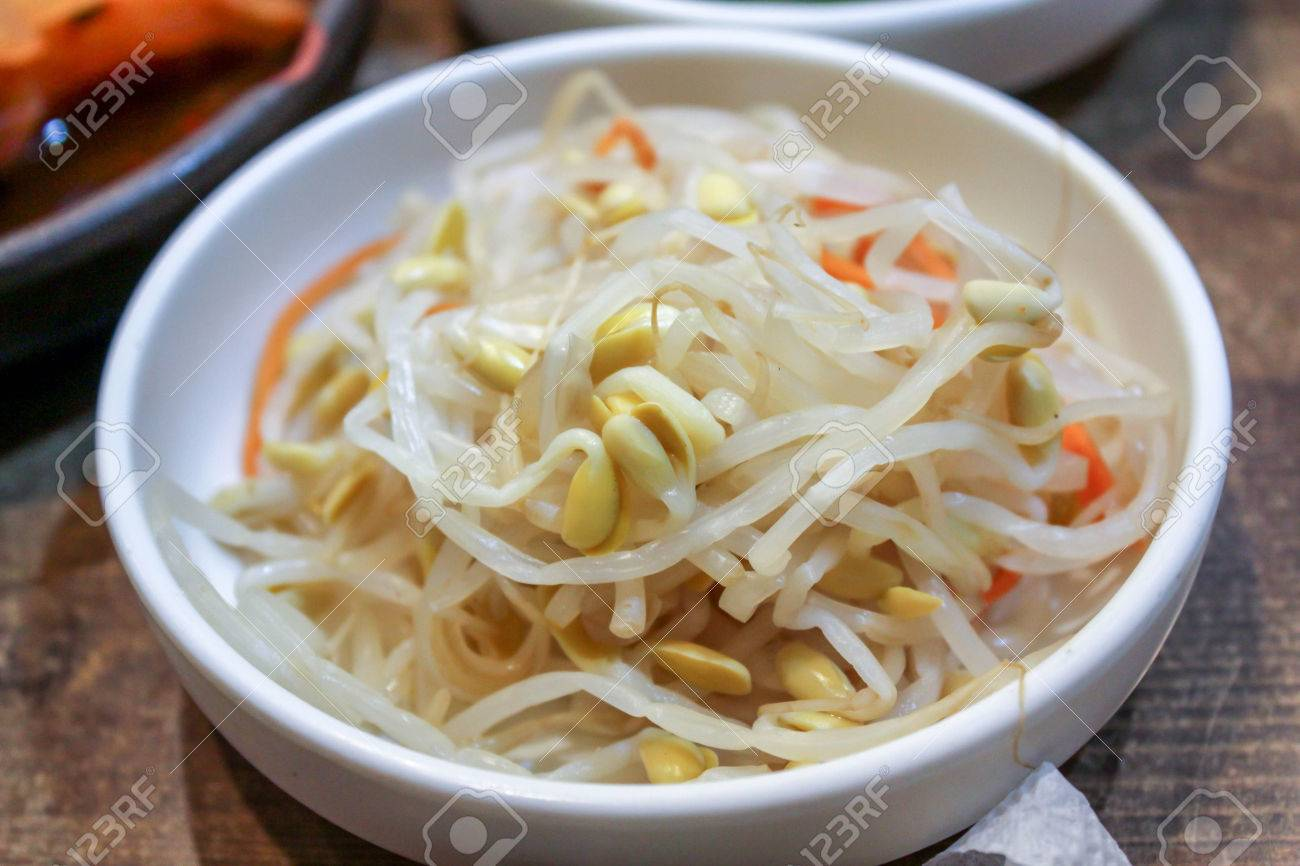mung_bean_sprouts: (185, 65, 1171, 792)
